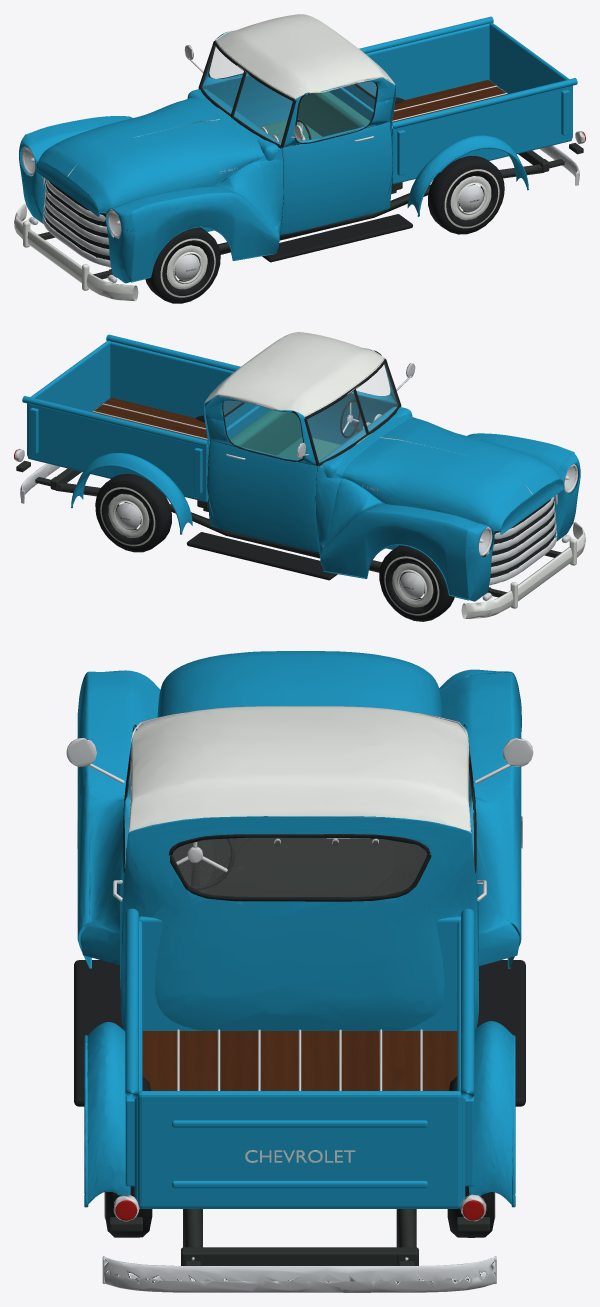
The model's file is pickup_3100-lod2.glb.
3 views of the same model, one above another, from view 1: azimuth 30°, elevation 25°; view 2: azimuth 150°, elevation 25°; view 3: azimuth 270°, elevation 25° (orthographic). The views are drawn at different scales.
Visible parts, largest first — view 1: pickup_3100_static_C3100_Paint_Turquoise, pickup_3100_hoodHingeAuthored_<bpy id property array [3]>_C3, pickup_3100_doorSide_right_C3100_Paint_Turquoise, pickup_3100_static_C3100_RoofIvory, pickup_3100_static_C3100_Chrome, pickup_3100_static_C3100_Glass, pickup_3100_static_C3100_Rubber, pickup_3100_wheelId_rearRight_C3100_Rubber, pickup_3100_static_C3100_Upholstery_Turquoise, pickup_3100_wheelId_frontRight_C3100_Rubber, pickup_3100_doorSide_left_C3100_Paint_Turquoise, pickup_3100_static_C3100_ReferenceIvoryEnamel (+10 smaller); view 2: pickup_3100_static_C3100_Paint_Turquoise, pickup_3100_hoodHingeAuthored_<bpy id property array [3]>_C3, pickup_3100_doorSide_left_C3100_Paint_Turquoise, pickup_3100_static_C3100_RoofIvory, pickup_3100_static_C3100_Chrome, pickup_3100_static_C3100_Glass, pickup_3100_static_C3100_Rubber, pickup_3100_wheelId_rearLeft_C3100_Rubber, pickup_3100_static_C3100_Upholstery_Turquoise, pickup_3100_wheelId_frontLeft_C3100_Rubber, pickup_3100_static_C3100_ReferenceIvoryEnamel, pickup_3100_doorSide_right_C3100_Paint_Turquoise (+10 smaller); view 3: pickup_3100_static_C3100_Paint_Turquoise, pickup_3100_static_C3100_RoofIvory, pickup_3100_static_C3100_UnderbodyBlackened, pickup_3100_static_C3100_BedOak, pickup_3100_static_C3100_Chrome, pickup_3100_hoodHingeAuthored_<bpy id property array [3]>_C3, pickup_3100_static_C3100_Glass, pickup_3100_static_C3100_Rubber, pickup_3100_wheelId_rearRight_C3100_Rubber, pickup_3100_wheelId_rearLeft_C3100_Rubber.
Part boxes in pixels (x1,y1,x2,y2): pickup_3100_static_C3100_Paint_Turquoise: (19,16,577,283); pickup_3100_hoodHingeAuthored_<bpy id property array [3]>_C3: (36,100,257,216); pickup_3100_doorSide_right_C3100_Paint_Turquoise: (280,121,392,234); pickup_3100_static_C3100_RoofIvory: (30,14,395,224); pickup_3100_static_C3100_Chrome: (22,45,584,282); pickup_3100_static_C3100_Glass: (201,46,376,144); pickup_3100_static_C3100_Rubber: (198,33,412,262); pickup_3100_wheelId_rearRight_C3100_Rubber: (428,156,504,234); pickup_3100_static_C3100_Upholstery_Turquoise: (259,91,375,146); pickup_3100_wheelId_frontRight_C3100_Rubber: (145,227,220,303); pickup_3100_doorSide_left_C3100_Paint_Turquoise: (202,76,292,126); pickup_3100_static_C3100_ReferenceIvoryEnamel: (14,204,138,301); pickup_3100_static_C3100_Paint_Turquoise: (22,334,580,601); pickup_3100_hoodHingeAuthored_<bpy id property array [3]>_C3: (342,418,563,534); pickup_3100_doorSide_left_C3100_Paint_Turquoise: (208,440,319,552); pickup_3100_static_C3100_RoofIvory: (204,332,569,542); pickup_3100_static_C3100_Chrome: (14,363,577,600); pickup_3100_static_C3100_Glass: (223,364,398,462); pickup_3100_static_C3100_Rubber: (186,350,401,580); pickup_3100_wheelId_rearLeft_C3100_Rubber: (95,473,171,552); pickup_3100_static_C3100_Upholstery_Turquoise: (230,409,340,461); pickup_3100_wheelId_frontLeft_C3100_Rubber: (379,545,454,621); pickup_3100_static_C3100_ReferenceIvoryEnamel: (461,522,585,618); pickup_3100_doorSide_right_C3100_Paint_Turquoise: (307,393,397,444); pickup_3100_static_C3100_Paint_Turquoise: (77,669,521,1209); pickup_3100_static_C3100_RoofIvory: (128,706,471,1162); pickup_3100_static_C3100_UnderbodyBlackened: (109,837,490,1265); pickup_3100_static_C3100_BedOak: (142,1031,457,1090); pickup_3100_static_C3100_Chrome: (66,676,533,1292); pickup_3100_hoodHingeAuthored_<bpy id property array [3]>_C3: (157,651,442,717); pickup_3100_static_C3100_Glass: (69,742,530,896); pickup_3100_static_C3100_Rubber: (74,724,525,1106); pickup_3100_wheelId_rearRight_C3100_Rubber: (105,1076,152,1237); pickup_3100_wheelId_rearLeft_C3100_Rubber: (447,1076,494,1237).
Size of the model in its own units: 2.02 by 0.7484 by 0.839.
Materials: 15 (1 with a texture image).
